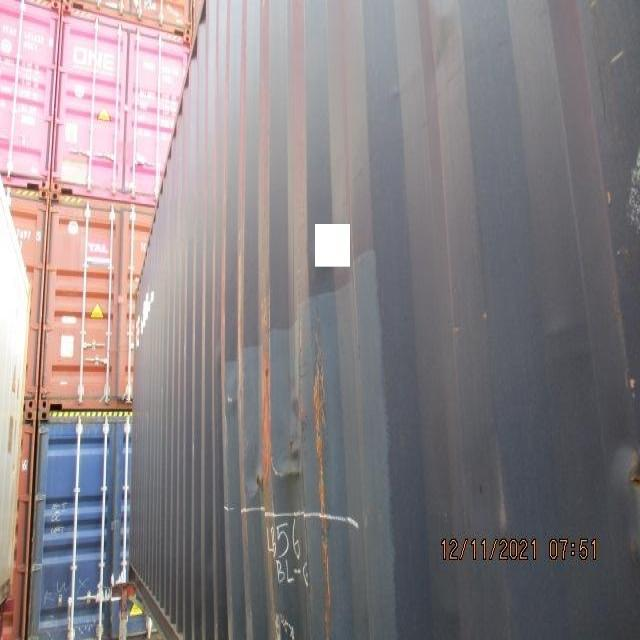dent: (214, 366, 377, 585)
